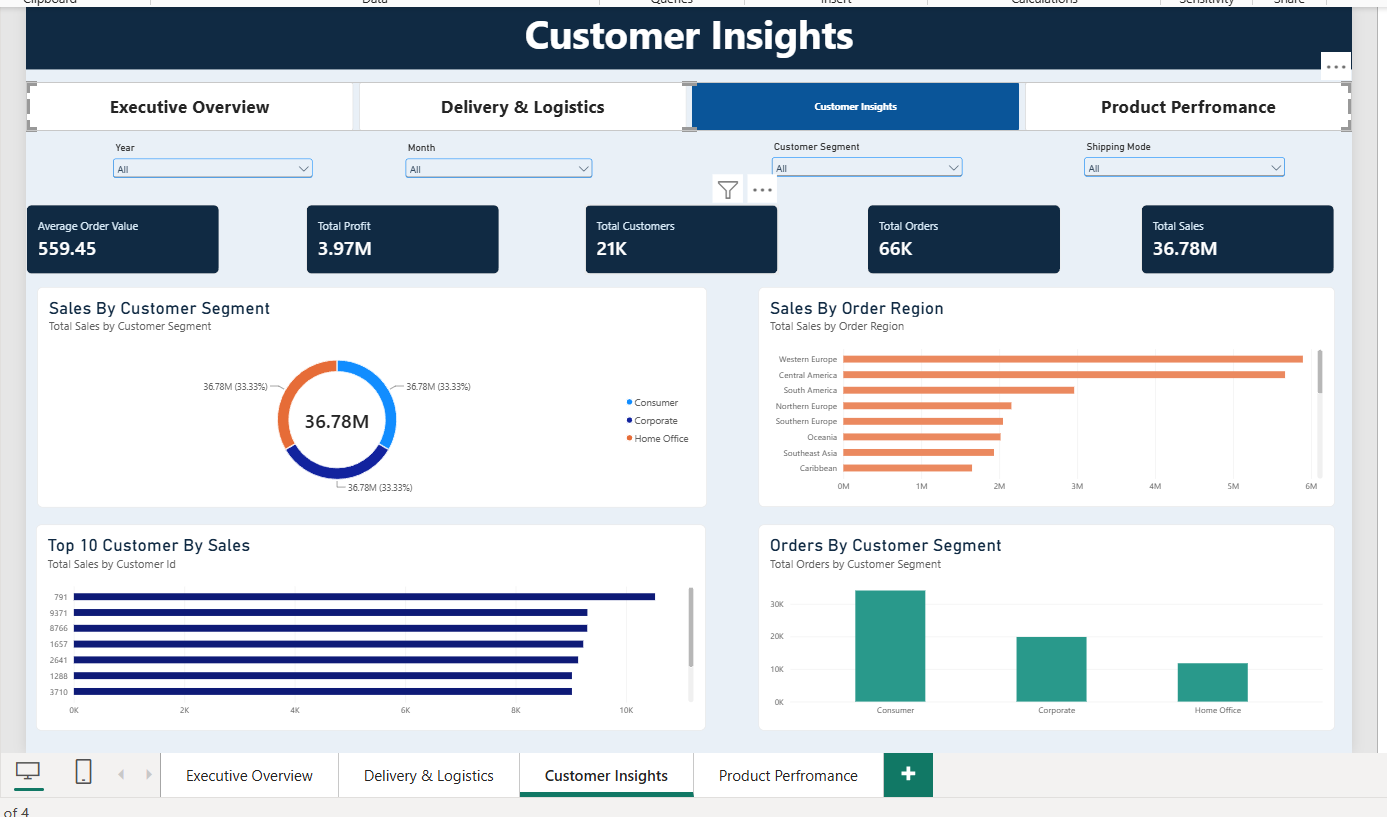

The page's visual inventory and layout, read from the dashboard file:
{"tool":"powerbi","page":{"name":"Customer Insights ","canvas":[1920,1080],"ordinal":2},"visuals":[{"type":"slicer","fields":{"Values":["Dim_Date.Month"]},"box":[544.7,195.4,280.5,54.3],"z":0},{"type":"slicer","fields":{"Values":["Dim_Date.Year"]},"box":[121.2,195.4,298.6,70.6],"z":1000},{"type":"slicer","fields":{"Values":["Dim_customers.Customer Segment"]},"box":[1074.9,193.6,285.9,56.1],"z":2000},{"type":"slicer","fields":{"Values":["Fact_ecom.Shipping Mode"]},"box":[1527.4,193.6,300.4,56.1],"z":3000},{"type":"cardVisual","fields":{"Data":["Fact_ecom.Total Sales"]},"box":[1614.2,285.9,280.5,101.3],"z":4000},{"type":"cardVisual","fields":{"Data":["Fact_ecom.Average Order Value"]},"box":[0,285.9,280.5,101.3],"z":5000},{"type":"cardVisual","fields":{"Data":["Fact_ecom.Total Orders"]},"box":[1217.9,285.9,280.5,101.3],"z":6000},{"type":"cardVisual","fields":{"Data":["Fact_ecom.Total Profit"]},"box":[405.4,285.9,280.5,101.3],"z":7000},{"type":"cardVisual","fields":{"Data":["Fact_ecom.Total Customers"]},"box":[808.9,285.9,280.5,101.3],"z":8000},{"type":"barChart","title":"Sales By Order Region","fields":{"Category":["Order_Regio_Lookup.Order Region"],"Y":["Fact_ecom.Total Sales"]},"box":[1060.5,405.4,834.3,318.5],"z":9000},{"type":"clusteredBarChart","title":"Top 10 Customer By Sales","fields":{"Category":["Fact_ecom.Customer Id"],"Y":["Fact_ecom.Total Sales"]},"box":[14.4,749.2,969.5,298.5],"z":10000},{"type":"clusteredColumnChart","title":"Orders By Customer Segment","fields":{"Category":["Dim_customers.Customer Segment"],"Y":["Fact_ecom.Total Orders"]},"box":[1060.5,749.2,834.3,298.6],"z":11000},{"type":"donutChart","title":"Sales By Customer Segment ","fields":{"Category":["DataCoSupplyChainDataset.Customer Segment"],"Y":["Fact_ecom.Total Sales"]},"box":[16.5,405.5,969.5,319],"z":12000},{"type":"pageNavigator","box":[0,108.6,1920.4,71],"z":13000},{"type":"textbox","box":[0,0,1920.1,90.5],"z":14000}]}

Visuals, with their boxes on the page's 1920x1080 design canvas (x1, y1, x2, y2). These are canvas units, not pixel positions in the 1387x817 screenshot, which may show the page scaled, cropped or inside an application window:
slicer - Dim_Date.Month: crop(545, 195, 825, 250)
slicer - Dim_Date.Year: crop(121, 195, 420, 266)
slicer - Dim_customers.Customer Segment: crop(1075, 194, 1361, 250)
slicer - Fact_ecom.Shipping Mode: crop(1527, 194, 1828, 250)
cardVisual - Fact_ecom.Total Sales: crop(1614, 286, 1895, 387)
cardVisual - Fact_ecom.Average Order Value: crop(0, 286, 280, 387)
cardVisual - Fact_ecom.Total Orders: crop(1218, 286, 1498, 387)
cardVisual - Fact_ecom.Total Profit: crop(405, 286, 686, 387)
cardVisual - Fact_ecom.Total Customers: crop(809, 286, 1089, 387)
"Sales By Order Region" barChart: crop(1060, 405, 1895, 724)
"Top 10 Customer By Sales" clusteredBarChart: crop(14, 749, 984, 1048)
"Orders By Customer Segment" clusteredColumnChart: crop(1060, 749, 1895, 1048)
"Sales By Customer Segment " donutChart: crop(16, 406, 986, 724)
pageNavigator: crop(0, 109, 1920, 180)
textbox: crop(0, 0, 1920, 90)
